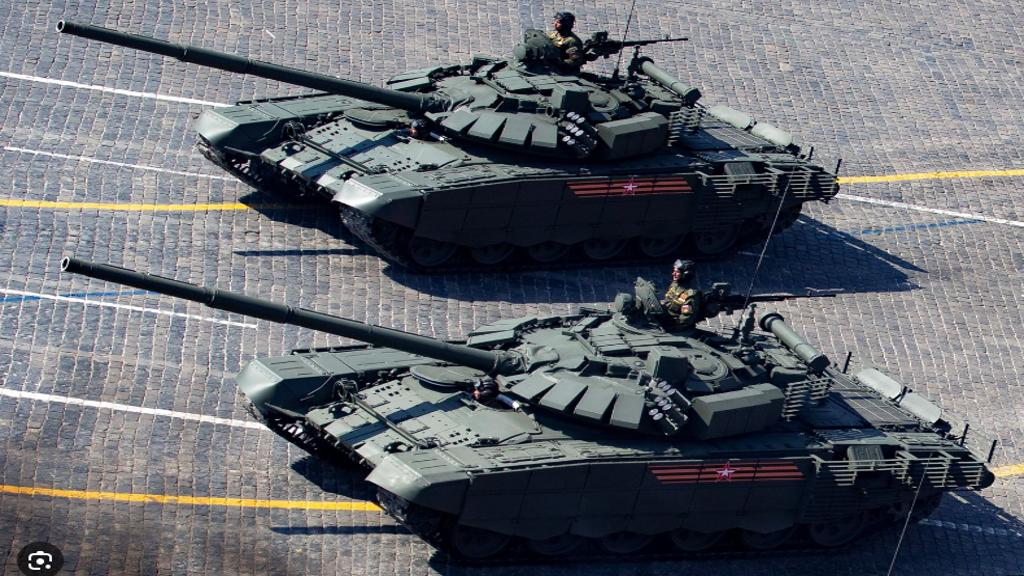TANK: (51, 252, 998, 574), (51, 10, 836, 275)
